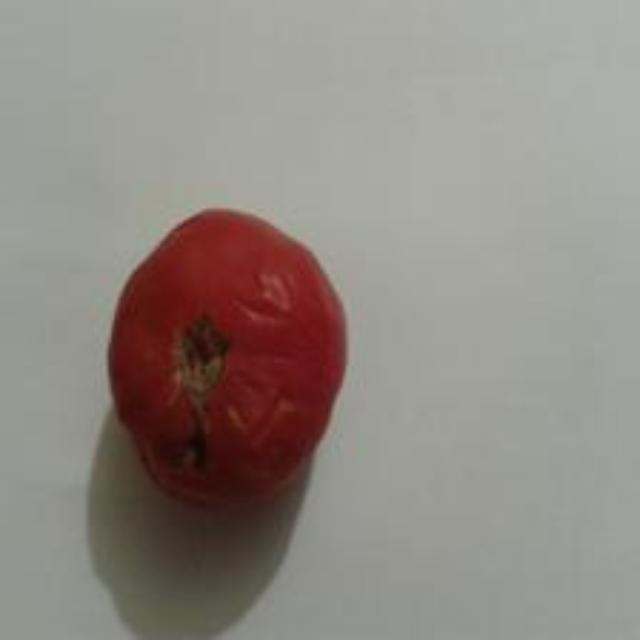defect: (103, 206, 354, 513)
